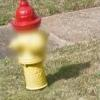Hydrant: (5, 1, 54, 94)
